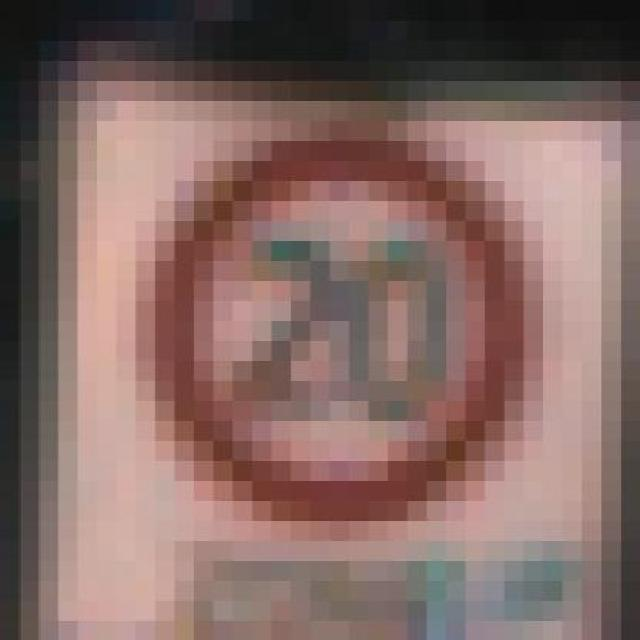forb_speed_over_20: (168, 142, 510, 510)
